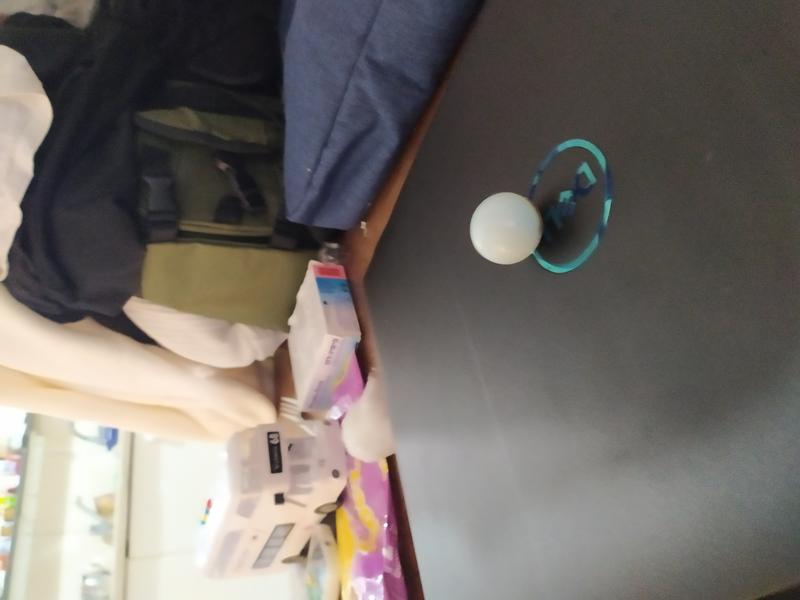Warning: (468, 189, 547, 267)
